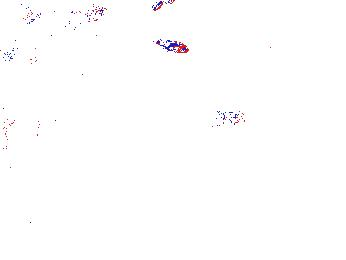X-ray fish: (143, 64, 167, 108), (322, 179, 346, 209)
red belly glassfish: (157, 37, 191, 56), (219, 108, 249, 127)
redtail glassfish: (19, 1, 108, 39)
